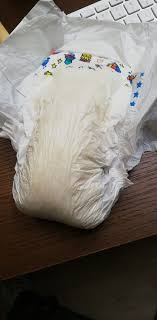paper: (1, 5, 156, 230)
